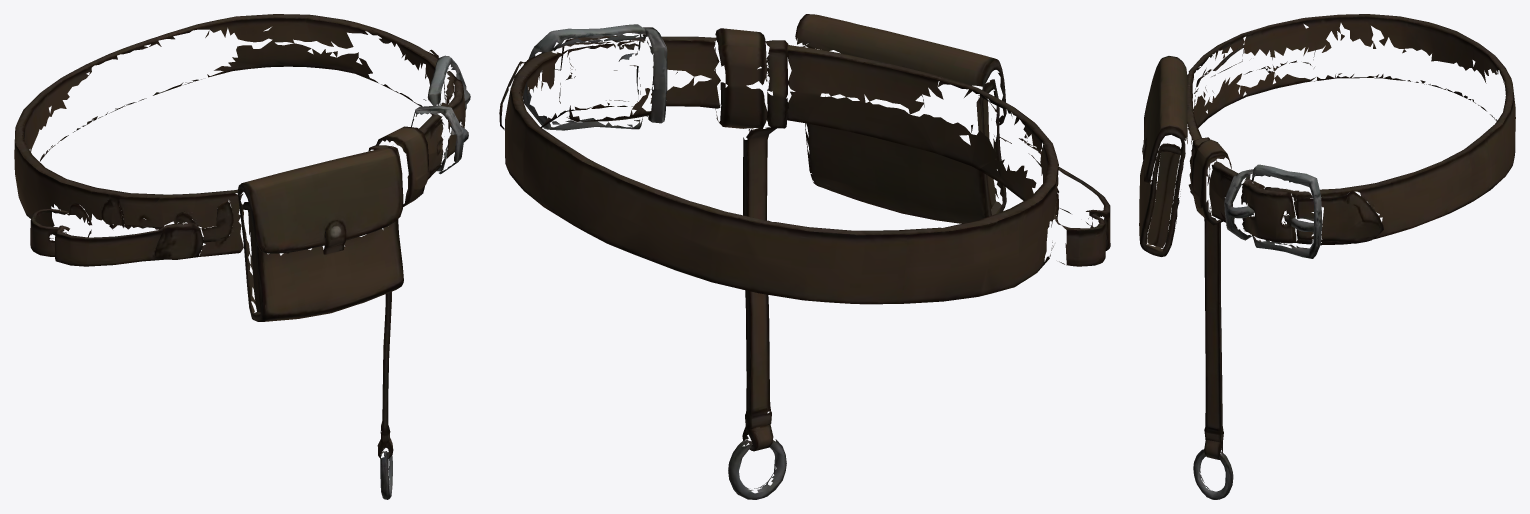
The model's file is assassin_f_belt.glb.
3 renders of one model, left to right at view 1: azimuth 30°, elevation 25°; view 2: azimuth 150°, elevation 25°; view 3: azimuth 270°, elevation 25°, orthographic. The views are drawn at different scales.
Parts seen in each view (by area): view 1: lo; view 2: lo; view 3: lo.
Part boxes in pixels (x1,y1,x2,y2): lo: (14,14,470,499); lo: (499,14,1110,499); lo: (1139,14,1515,499).
Size of the model in its own units: 0.43 by 0.35 by 0.32.
1 material, 1 textured.
